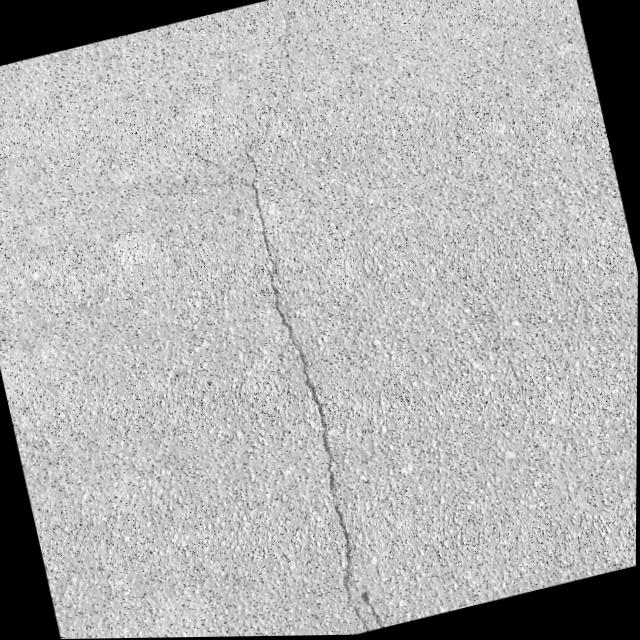Crack: (195, 0, 437, 638)
